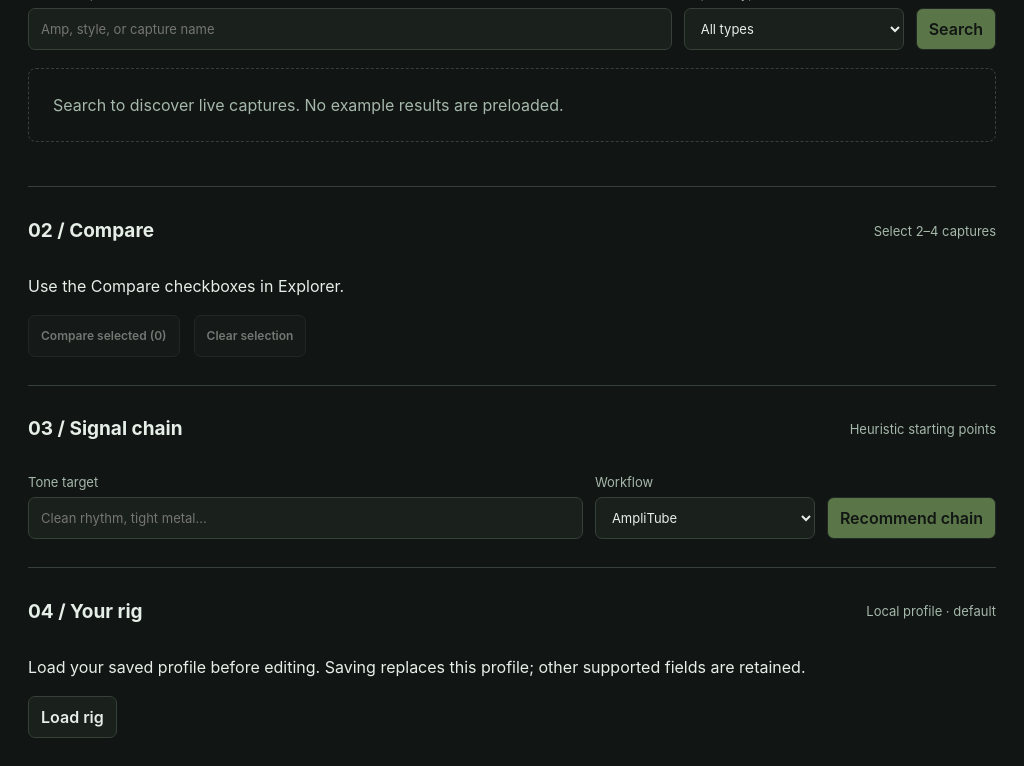
allows typing spaces and comma-separated rig names
The width and height of the screenshot is (1024, 766).
(page scrolled)
Click the button "Load rig" at (72,716), box left=28, top=696, right=117, bottom=738
(page scrolled)
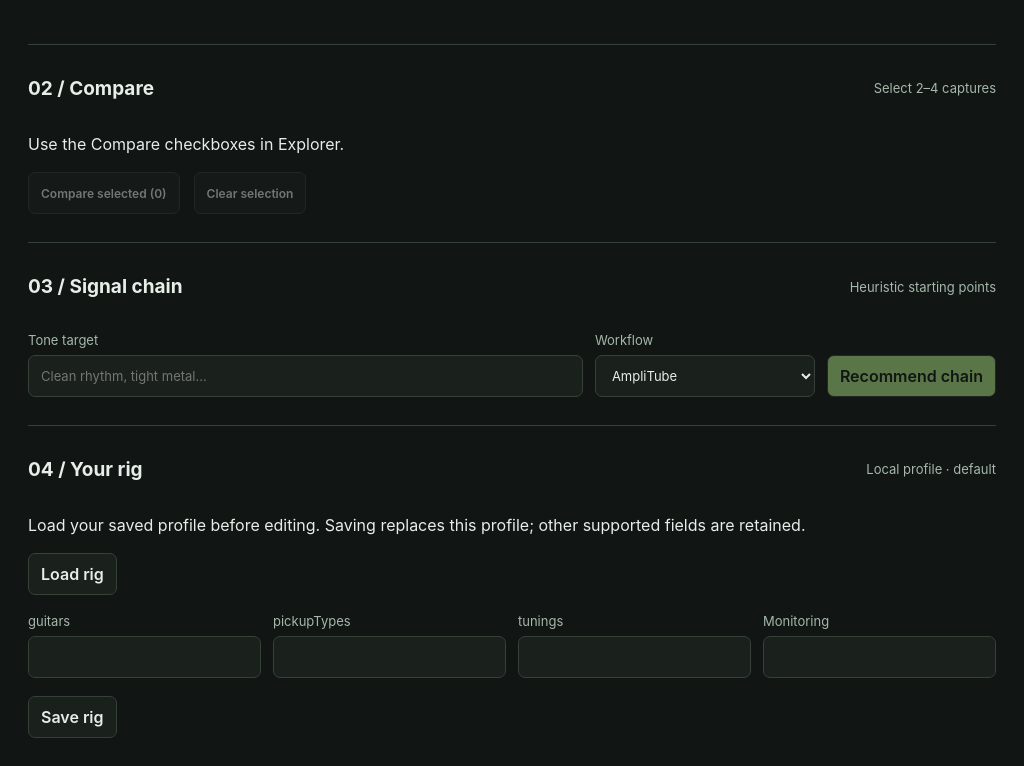
Type "Les Paul, Strat" into the field labelled "guitars" at (144,657), box left=28, top=636, right=261, bottom=678
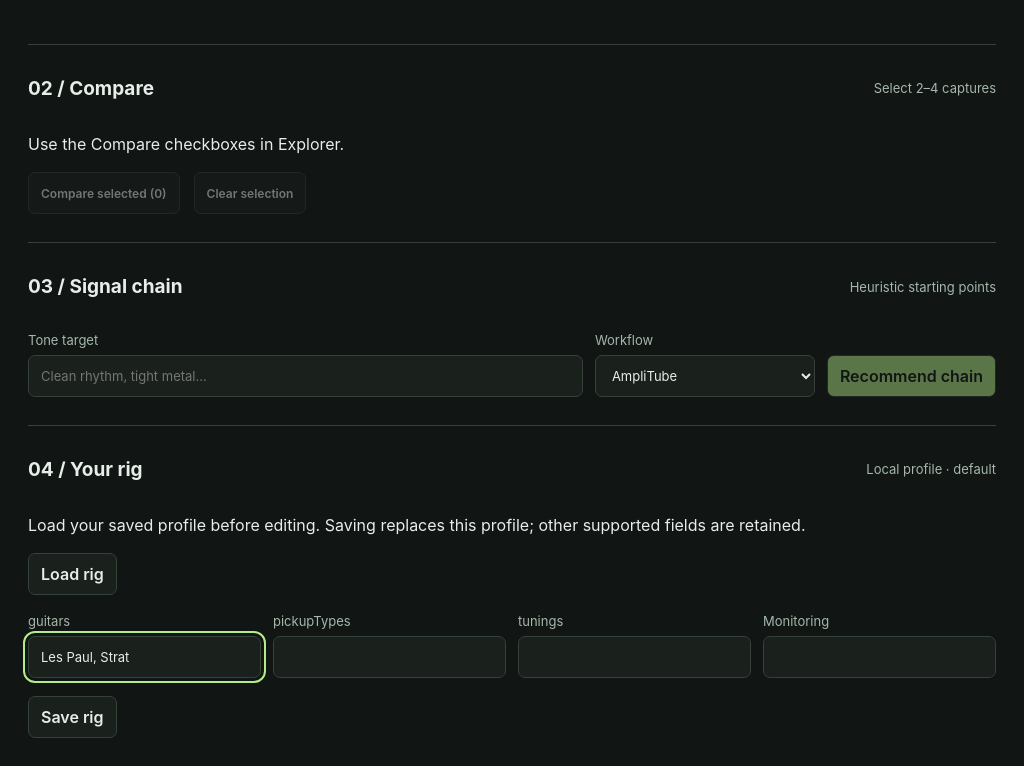
Click the button "Save rig" at (72,717), box left=28, top=696, right=117, bottom=738
(page scrolled)
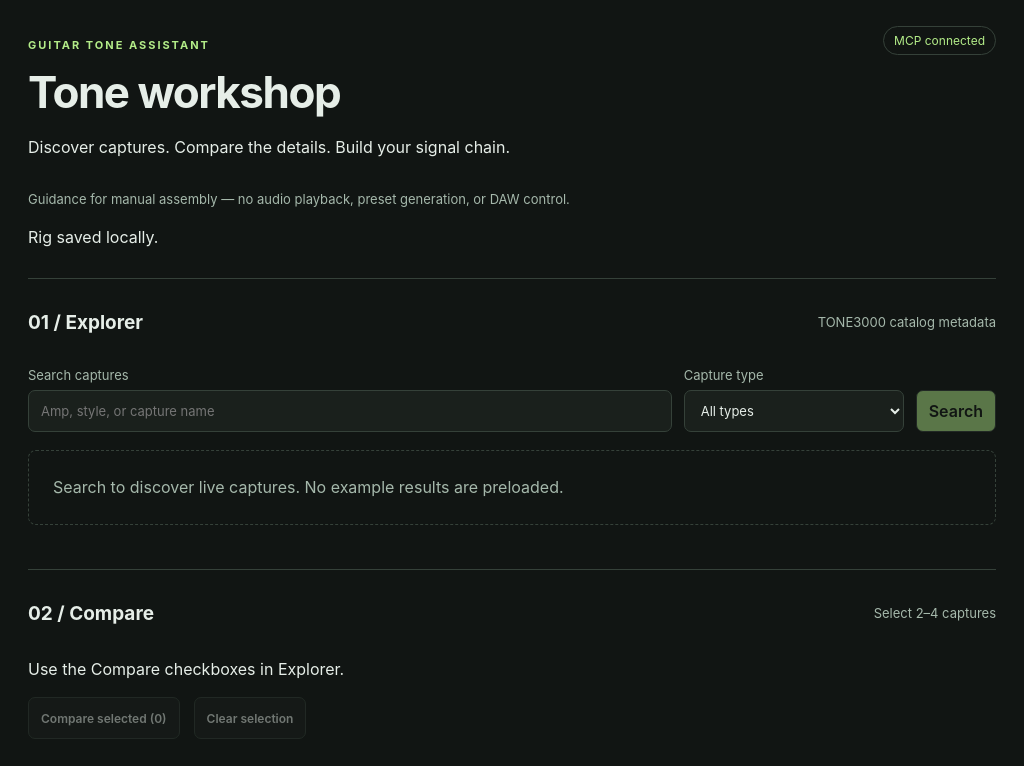
Check: the text "Rig saved locally." is shown, box left=28, top=227, right=158, bottom=247
